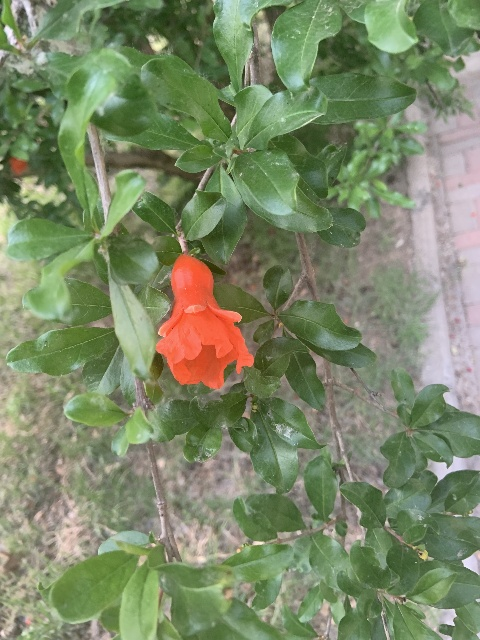flower: (157, 254, 253, 389)
